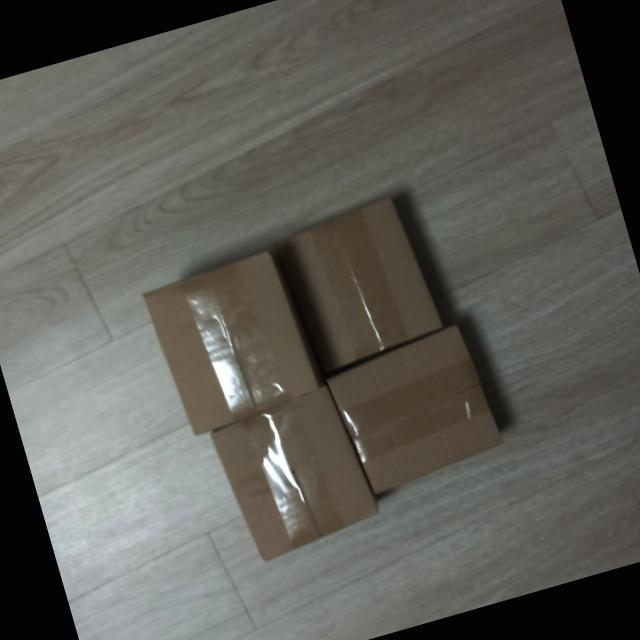box: (133, 238, 327, 444), (202, 372, 394, 572), (264, 184, 456, 384), (316, 315, 514, 503)
